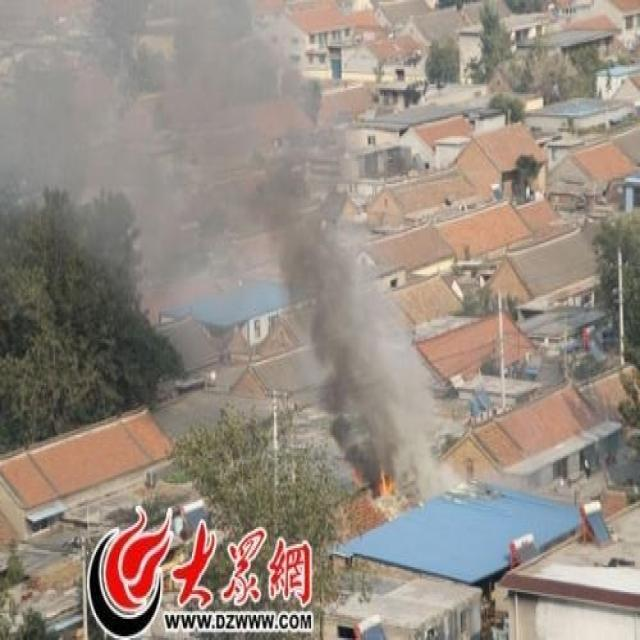Smoke: (1, 2, 468, 508)
